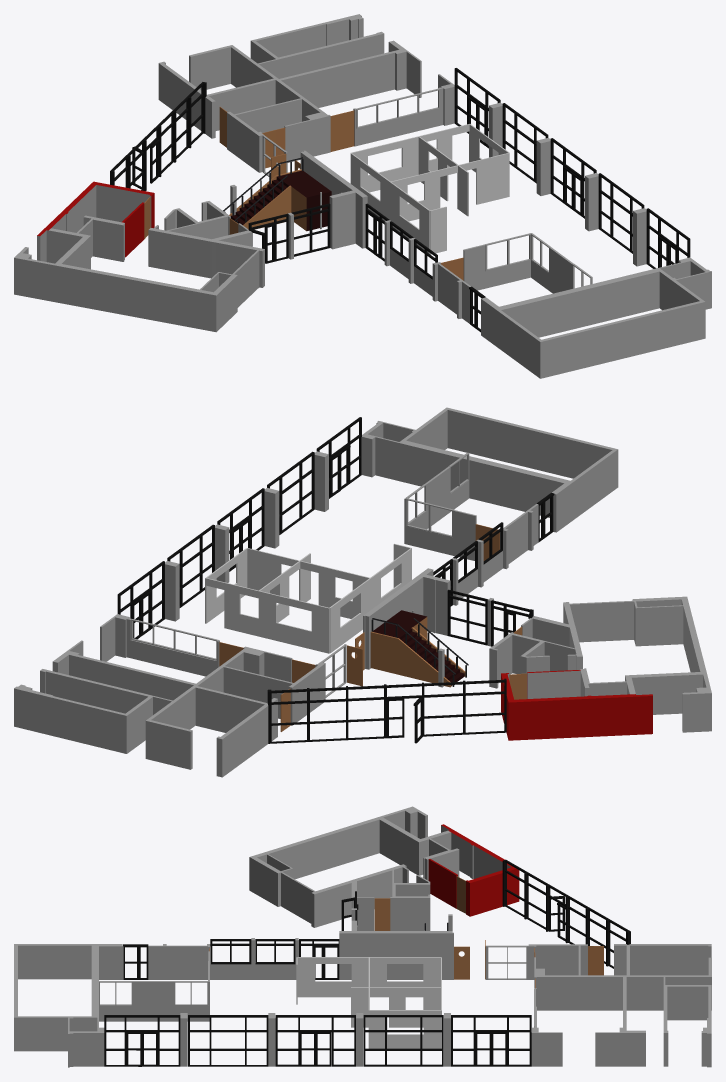
The model's file is walls.obj.
3 views of the same model, one above another, from view 1: azimuth 30°, elevation 25°; view 2: azimuth 150°, elevation 25°; view 3: azimuth 270°, elevation 25° (orthographic). The views are drawn at different scales.
Visible parts, largest first — view 1: walls_Cube.061; view 2: walls_Cube.061; view 3: walls_Cube.061.
Boxes of the visible parts, x1=… form: walls_Cube.061: x1=14, y1=14, x2=711, y2=378; walls_Cube.061: x1=14, y1=407, x2=711, y2=777; walls_Cube.061: x1=14, y1=806, x2=711, y2=1067.
Size of the model in its own units: 30.55 by 3.18 by 39.63.
